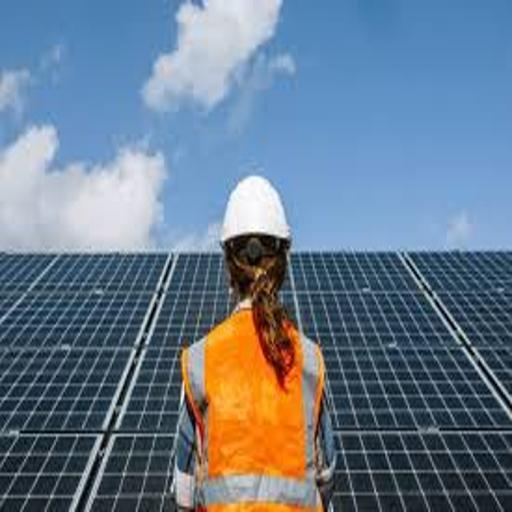Hard_hat: (165, 256, 364, 512), (195, 168, 308, 255)
Vest: (157, 305, 342, 512)
